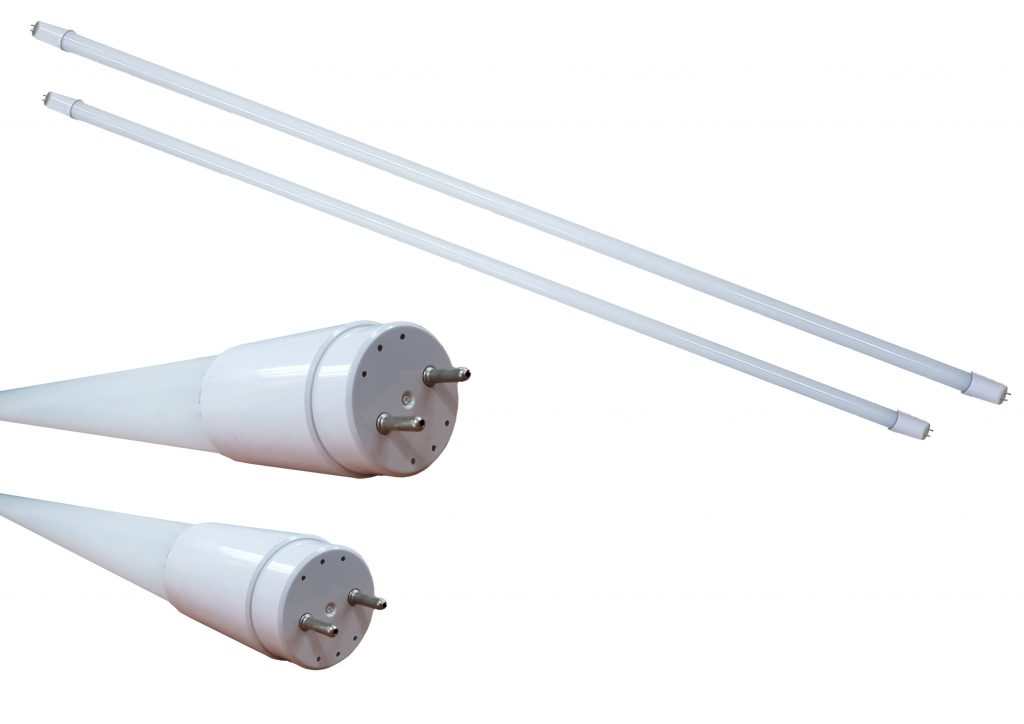Light_bulb: (19, 13, 1017, 412), (34, 84, 938, 444), (3, 314, 474, 482), (1, 489, 388, 679)
